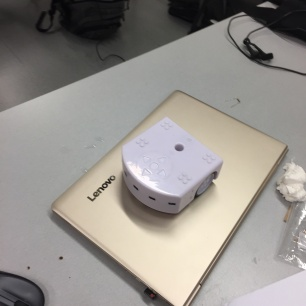thymio: (116, 114, 225, 216)
